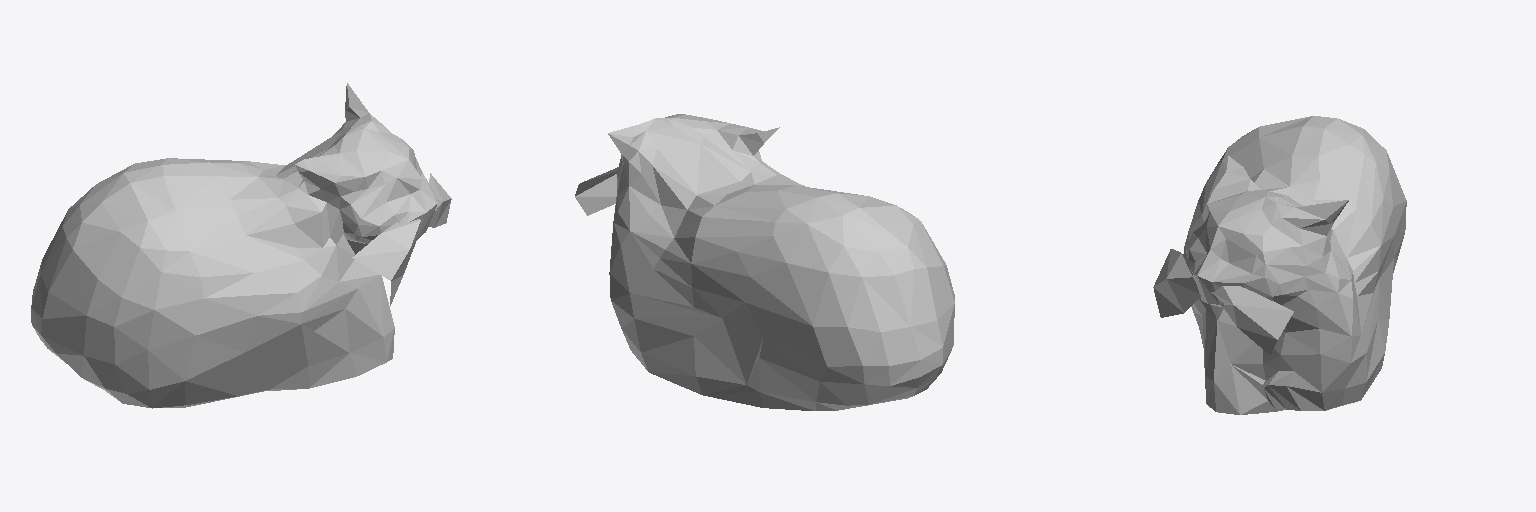
The model's file is maxwell.obj.
3 views of the same model, side by side, from view 1: azimuth 30°, elevation 25°; view 2: azimuth 150°, elevation 25°; view 3: azimuth 270°, elevation 25° (orthographic).
Parts seen in each view (by area): view 1: dingus; view 2: dingus; view 3: dingus.
Boxes of the visible parts, <box> form: dingus: <box>31,83,451,408</box>; dingus: <box>575,114,954,410</box>; dingus: <box>1153,116,1406,414</box>.
Size of the model in its own units: 33.23 by 19.21 by 18.75.